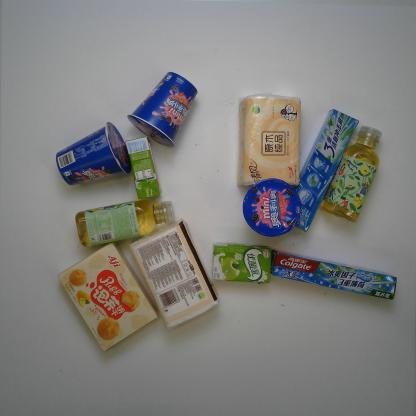Dessert: (53, 238, 162, 356), (123, 66, 200, 150), (53, 117, 133, 191), (239, 175, 304, 239)
Drink: (317, 120, 384, 227), (70, 196, 181, 250)
Milk: (207, 238, 275, 286), (123, 132, 164, 202)
Personal Hygiene: (291, 103, 360, 234), (268, 248, 399, 304)
Tissue: (126, 216, 223, 332), (232, 90, 302, 188)
